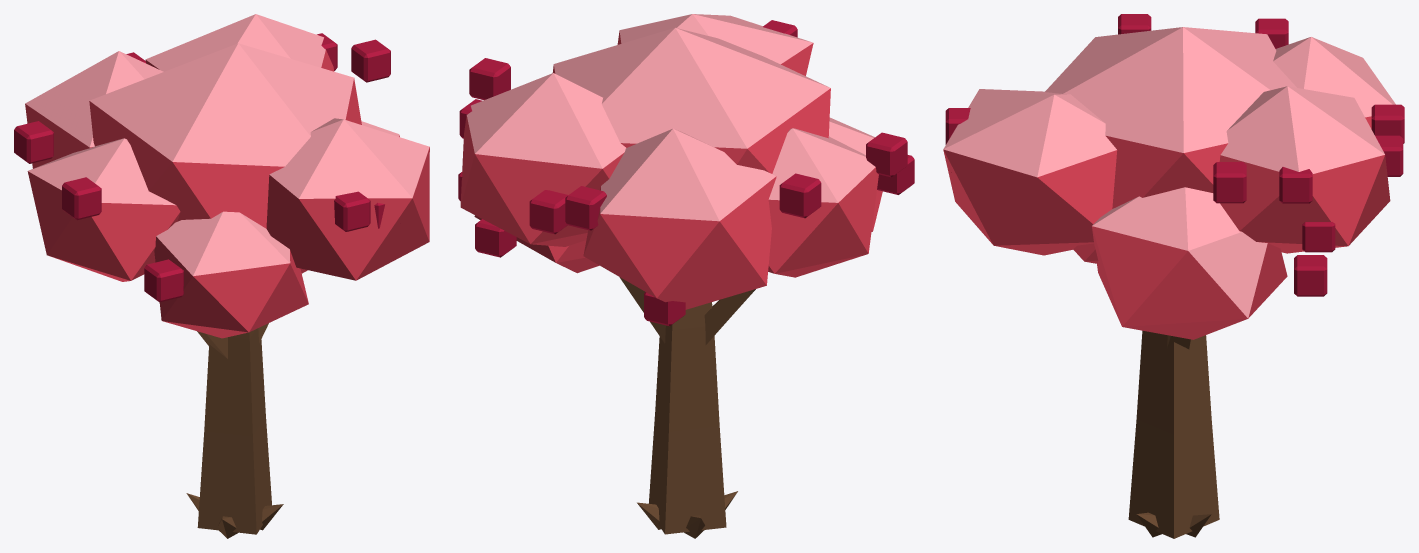
The model's file is RubyTree.fbx.
3 renders of one model, left to right at view 1: azimuth 30°, elevation 25°; view 2: azimuth 150°, elevation 25°; view 3: azimuth 270°, elevation 25°, orthographic. The views are drawn at different scales.
Visible parts, largest first — view 1: RubyTree; view 2: RubyTree; view 3: RubyTree.
Part boxes in pixels (x1,y1,x2,y2): RubyTree: (14, 14, 429, 538); RubyTree: (458, 14, 914, 538); RubyTree: (943, 14, 1404, 538).
Bounding box in the file's own units: 11.14 × 14.09 × 11.66.
Materials: 1 (1 with a texture image).
